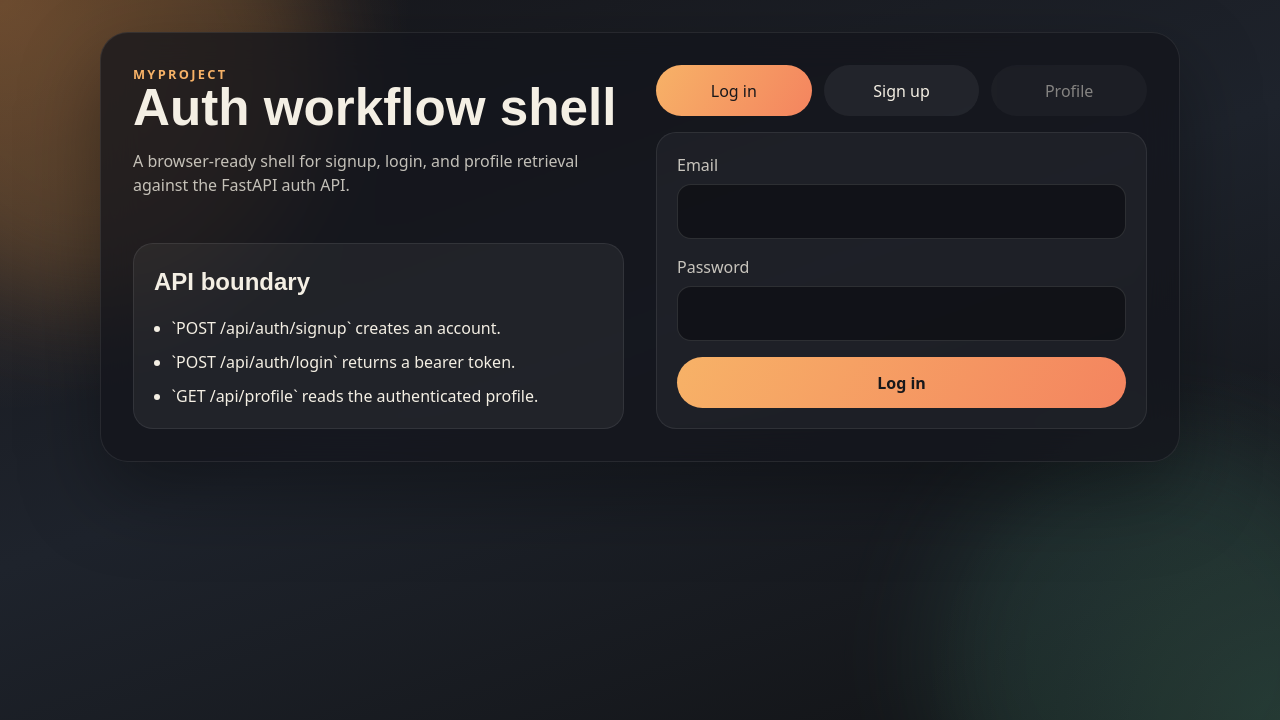
Test: App › shows invalid login responses returned by the service layer
The image size is (1280, 720).
Type "person@example.com" into the field labelled "Email" at (902, 212), box [677,184,1126,239]
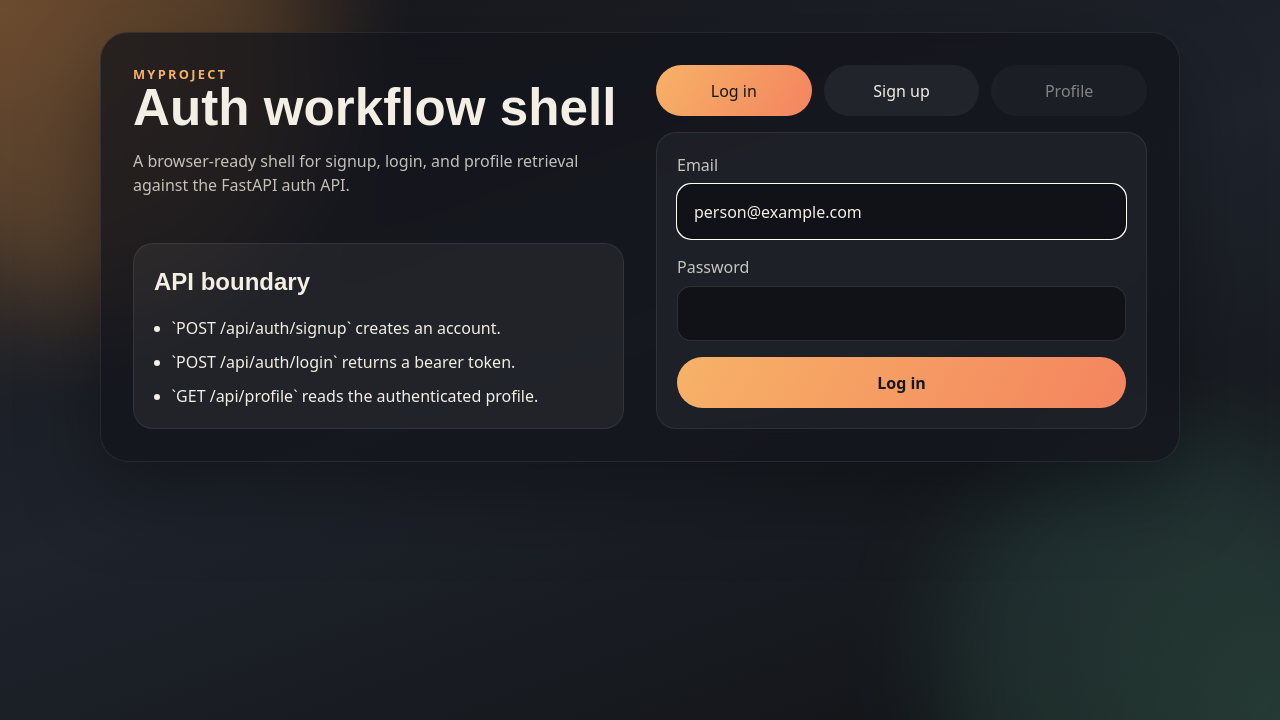
Type "wrong-password" into the password field labelled "Password" at (902, 314), box [677,286,1126,341]
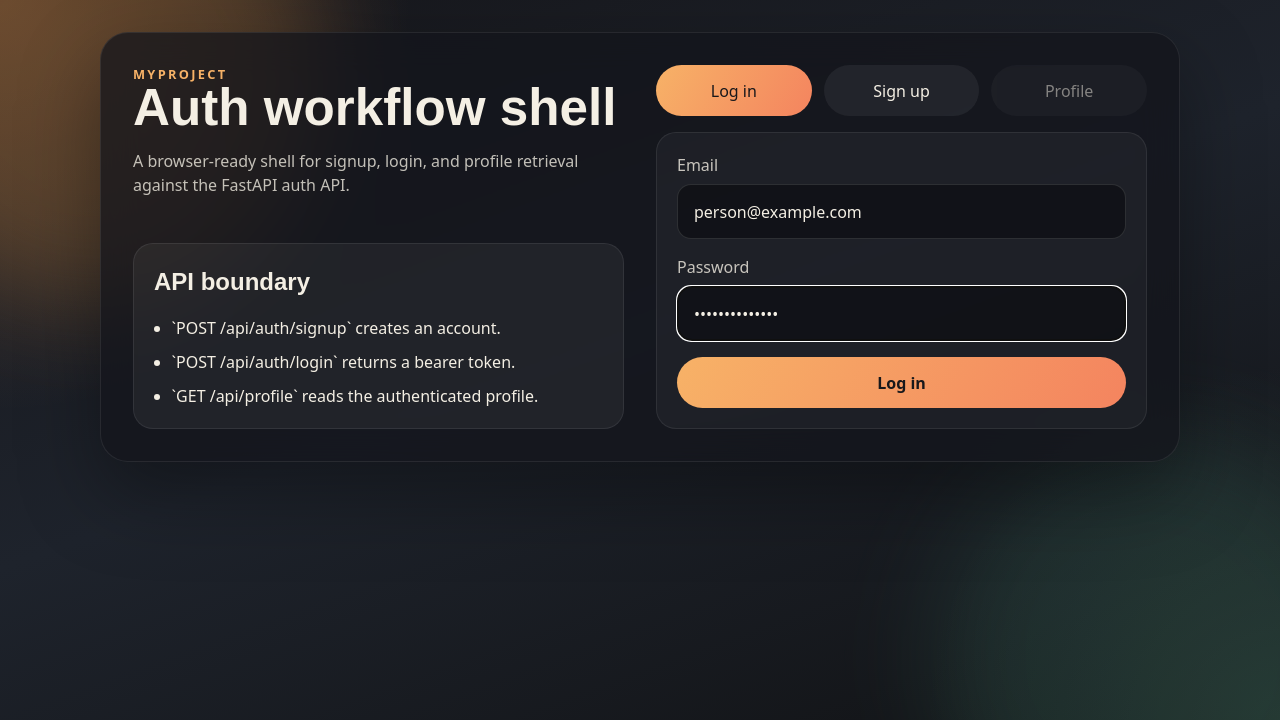
Click the button "Log in" below "Password" at (902, 383), box [677,357,1126,408]
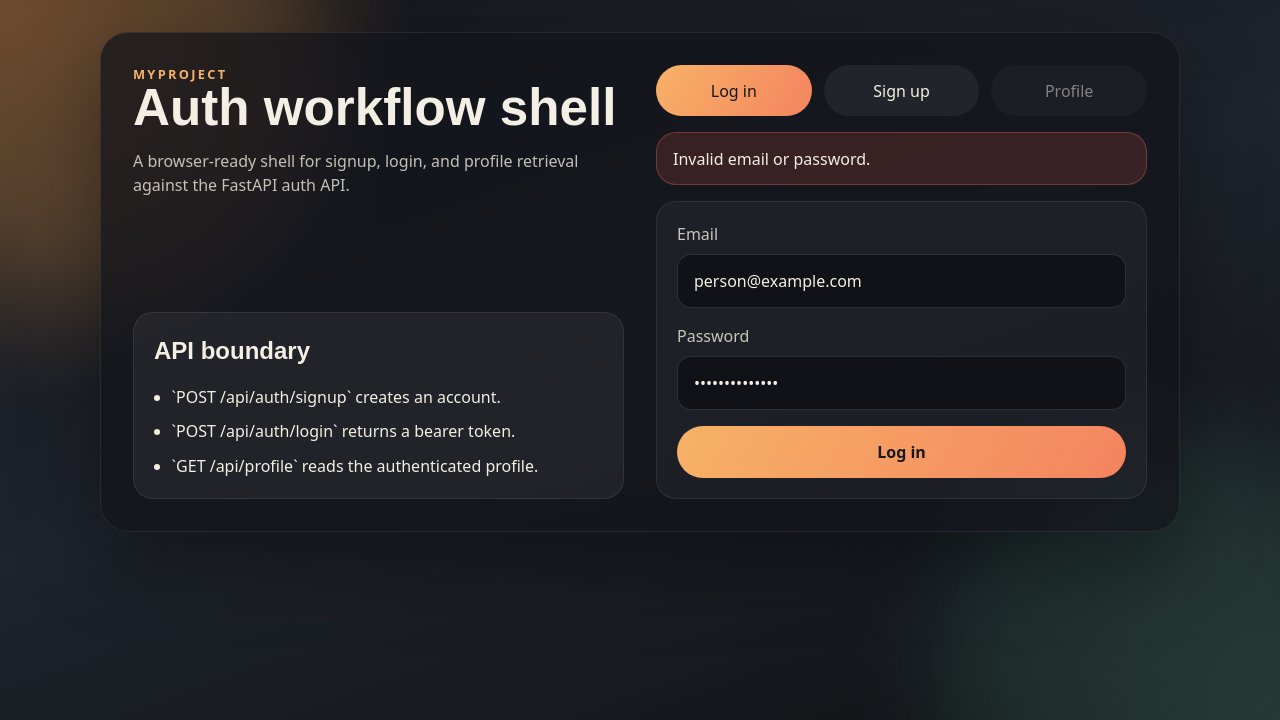
Check: the text "Invalid email or password." is shown, box [656,132,1147,185]
